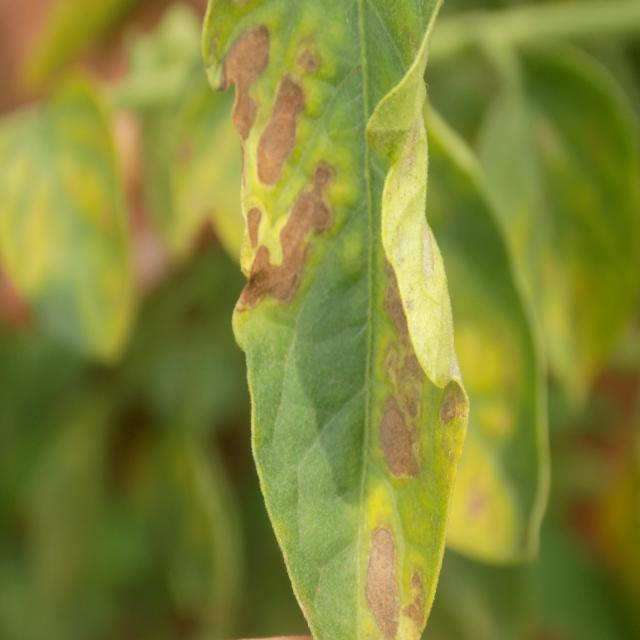tomato_early blight: (200, 0, 470, 640)
